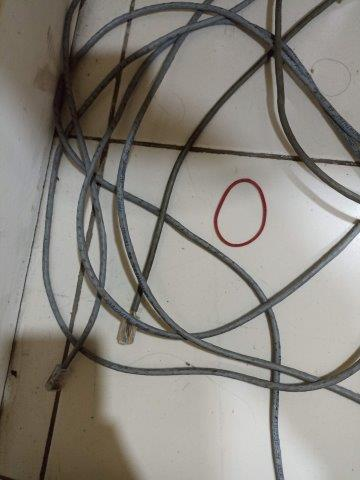karet: (213, 178, 267, 247)
